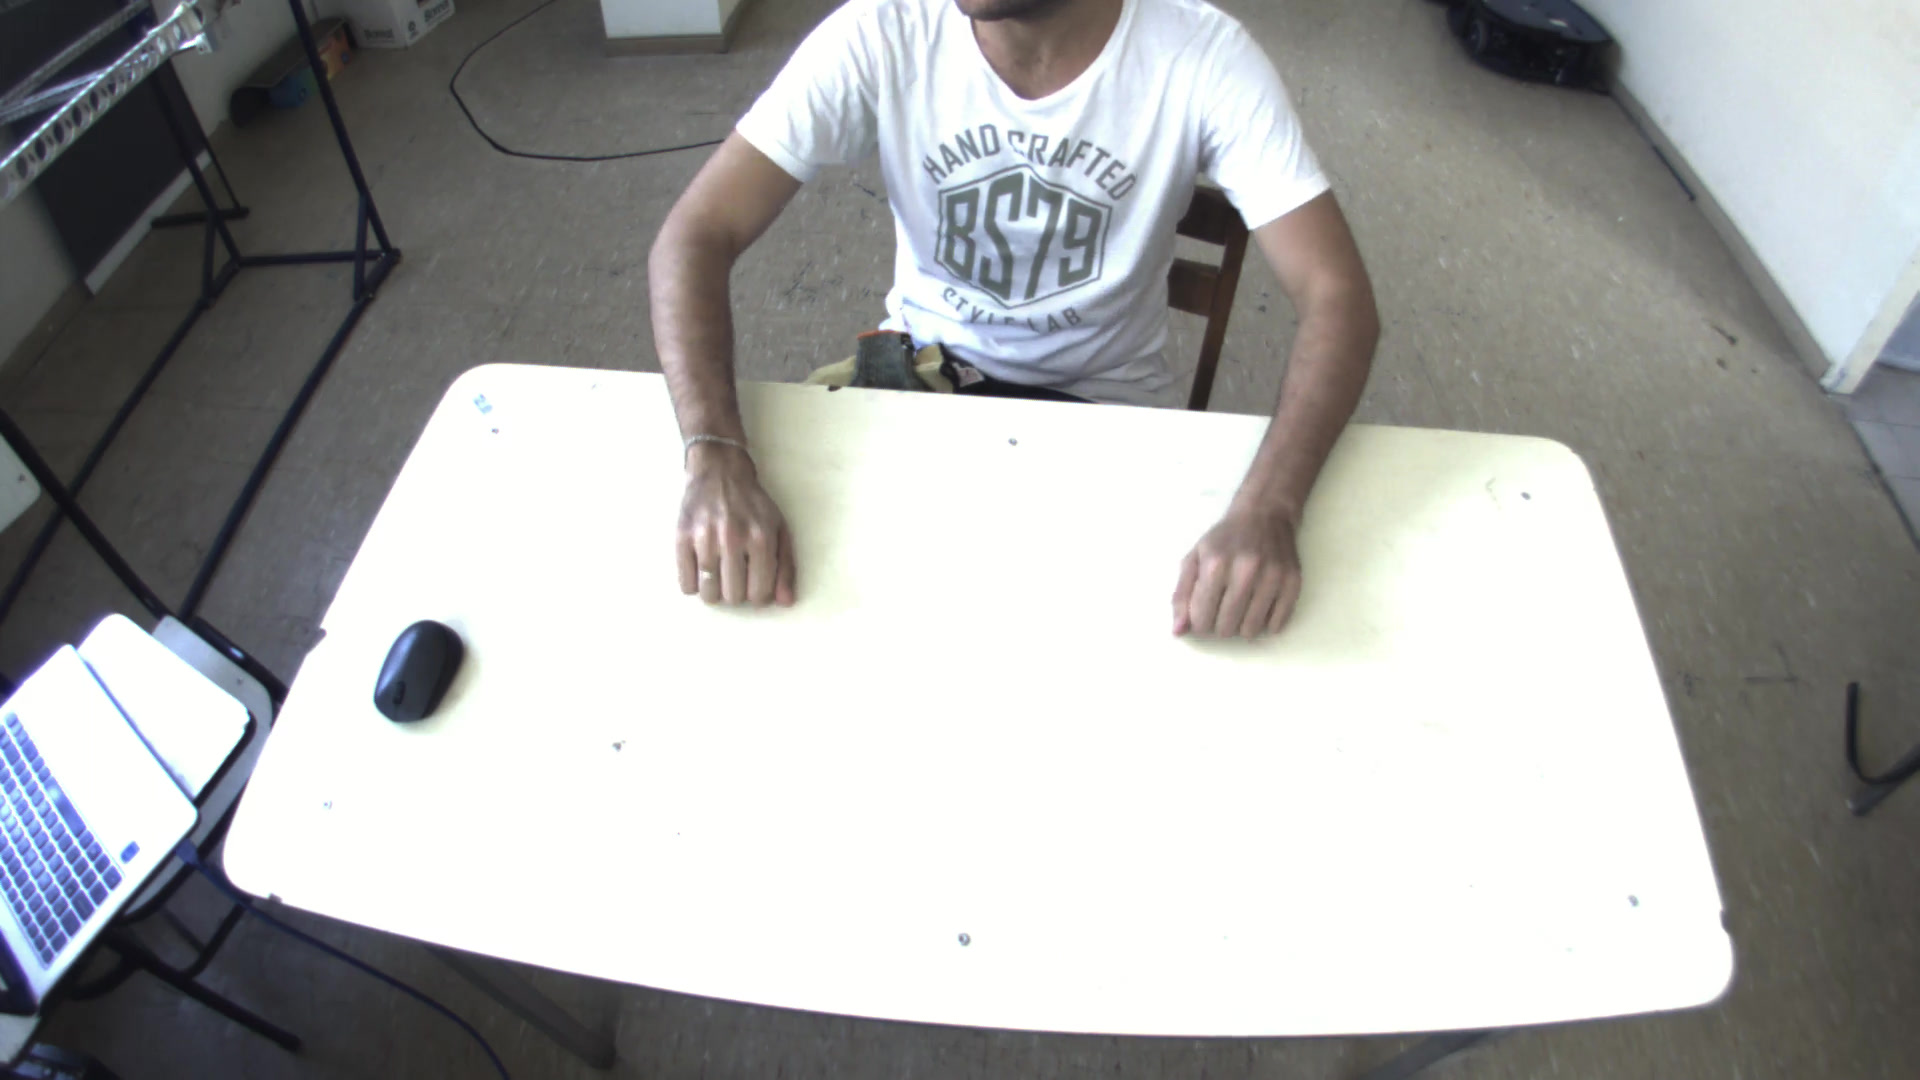hand: (657, 429, 810, 616), (1168, 477, 1327, 644)
